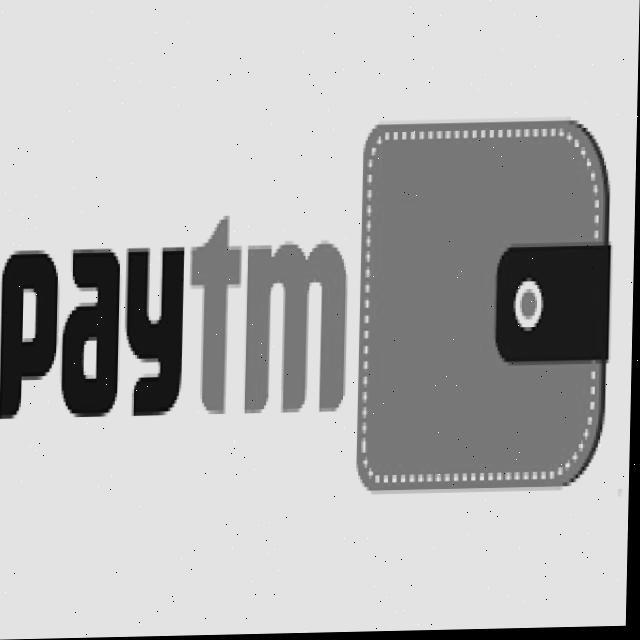fully_visible: (1, 218, 362, 447)
